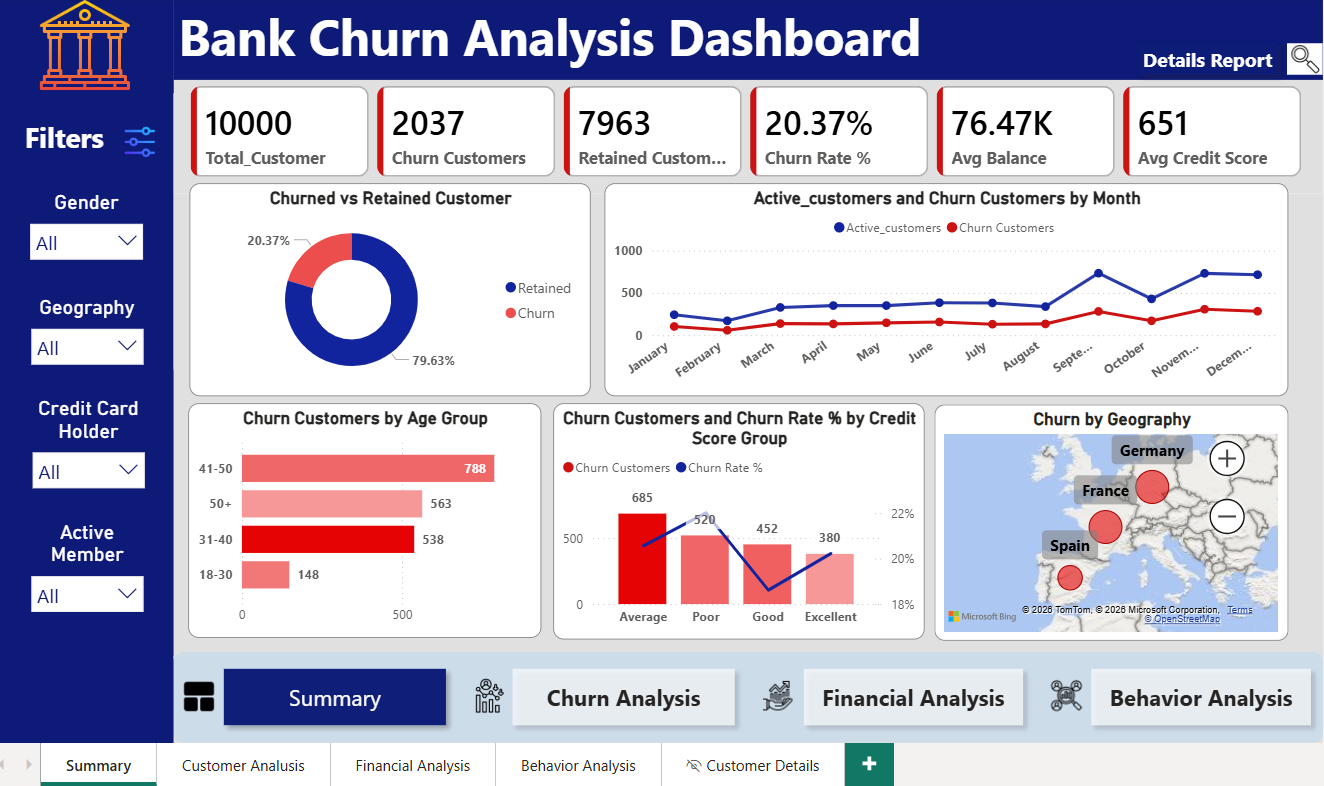

The dashboard page shown, as its layout file describes it:
{"tool":"powerbi","page":{"name":"Summary","canvas":[1280,720],"ordinal":0},"visuals":[{"type":"shape","box":[169.7,631.7,1110.3,87.7],"z":0},{"type":"cardVisual","fields":{"Data":["01Measures.Total_Customer","01Measures.Churn Customers","01Measures.Retained Customers","01Measures.Churn Rate %","01Measures.Avg Balance","01Measures.Avg Credit Score"]},"box":[170.2,68.6,1110.1,122.1],"z":1000},{"type":"donutChart","title":"Churned vs Retained Customer","fields":{"Y":["01Measures.Total_Customer"],"Category":["Bank_Churn.Churn Status"]},"box":[185.2,179.8,387,205.8],"z":2000},{"type":"clusteredBarChart","fields":{"Category":["Bank_Churn.Age Group"],"Y":["01Measures.Churn Customers"]},"box":[185,392.3,340.9,226.8],"z":3000},{"type":"map","title":"Churn by Geography","fields":{"Size":["01Measures.Churn Customers"],"Category":["Geography.GeographyLocation"]},"box":[904.8,393.3,341.4,228],"z":4000},{"type":"lineChart","fields":{"Y":["01Measures.Active_customers","01Measures.Churn Customers"],"Category":["Bank_Churn.Bank DOJ.Variation.Date Hierarchy.Month"]},"box":[585.9,179.8,660,205.8],"z":5000},{"type":"shape","box":[170.4,0,1109.9,80.3],"z":6000},{"type":"shape","box":[0,80.3,170.4,639.4],"z":7000},{"type":"slicer","title":"Active Member","fields":{"Values":["ActiveCustomer.ActiveCategory"]},"box":[22.5,505.6,128.2,97.2],"z":8000},{"type":"slicer","title":"Geography","fields":{"Values":["Geography.GeographyLocation"]},"box":[22.5,288.7,128.2,97.2],"z":9000},{"type":"slicer","title":"Credit Card Holder","fields":{"Values":["CreditCard.Category"]},"box":[23.9,385.9,128.2,108.5],"z":10000},{"type":"slicer","title":"Gender","fields":{"Values":["Gender.GenderCategory"]},"box":[21.1,187.3,129.6,95.8],"z":11000},{"type":"lineStackedColumnComboChart","fields":{"Category":["Bank_Churn.Credit Score Group"],"Y":["01Measures.Churn Customers"],"Y2":["01Measures.Churn Rate %"]},"box":[536.9,392.1,358.3,228],"z":12000},{"type":"actionButton","box":[210.1,640,232.3,72.3],"z":13000},{"type":"actionButton","box":[488.3,640,232.3,72.3],"z":14000},{"type":"actionButton","box":[1047.7,640,230,72.3],"z":15000},{"type":"image","box":[0,0,170.1,92.9],"z":16000},{"type":"textbox","box":[21.1,112.7,116.9,53.5],"z":17000},{"type":"image","box":[108.8,121.2,58.8,36.2],"z":18000},{"type":"textbox","box":[170.4,0,881.7,80.3],"z":19000},{"type":"image","box":[179.5,658.1,30.6,34.8],"z":20000},{"type":"image","box":[452.2,658.1,45.9,33.4],"z":21000},{"type":"image","box":[738.8,658.1,30.6,34],"z":22000},{"type":"actionButton","box":[769.4,640,229.6,72.3],"z":23000},{"type":"image","box":[1017,658.1,30.6,34],"z":24000},{"type":"actionButton","box":[1093.6,34.8,151.7,48.7],"z":25000},{"type":"image","box":[1245.2,44.5,34.8,30.6],"z":26000}]}

Visuals, with their boxes on the page's 1280x720 design canvas (x1, y1, x2, y2). These are canvas units, not pixel positions in the 1324x786 screenshot, which may show the page scaled, cropped or inside an application window:
shape: select_region(170, 632, 1280, 719)
cardVisual - 01Measures.Total_Customer x 01Measures.Churn Customers: select_region(170, 69, 1280, 191)
"Churned vs Retained Customer" donutChart: select_region(185, 180, 572, 386)
clusteredBarChart - Bank_Churn.Age Group x 01Measures.Churn Customers: select_region(185, 392, 526, 619)
"Churn by Geography" map: select_region(905, 393, 1246, 621)
lineChart - 01Measures.Active_customers x 01Measures.Churn Customers: select_region(586, 180, 1246, 386)
shape: select_region(170, 0, 1280, 80)
shape: select_region(0, 80, 170, 720)
"Active Member" slicer: select_region(22, 506, 151, 603)
"Geography" slicer: select_region(22, 289, 151, 386)
"Credit Card Holder" slicer: select_region(24, 386, 152, 494)
"Gender" slicer: select_region(21, 187, 151, 283)
lineStackedColumnComboChart - Bank_Churn.Credit Score Group x 01Measures.Churn Customers: select_region(537, 392, 895, 620)
actionButton: select_region(210, 640, 442, 712)
actionButton: select_region(488, 640, 721, 712)
actionButton: select_region(1048, 640, 1278, 712)
image: select_region(0, 0, 170, 93)
textbox: select_region(21, 113, 138, 166)
image: select_region(109, 121, 168, 157)
textbox: select_region(170, 0, 1052, 80)
image: select_region(180, 658, 210, 693)
image: select_region(452, 658, 498, 692)
image: select_region(739, 658, 769, 692)
actionButton: select_region(769, 640, 999, 712)
image: select_region(1017, 658, 1048, 692)
actionButton: select_region(1094, 35, 1245, 84)
image: select_region(1245, 44, 1280, 75)
